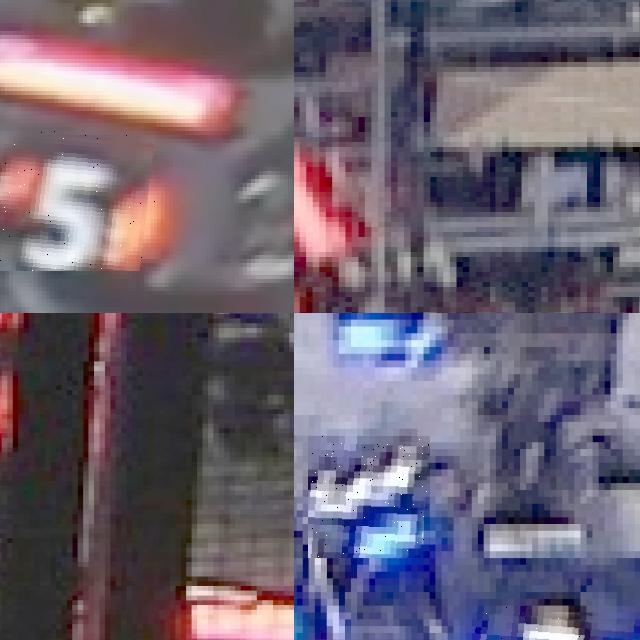B3: (308, 436, 430, 558), (472, 606, 635, 640)
R5: (0, 131, 156, 271)
